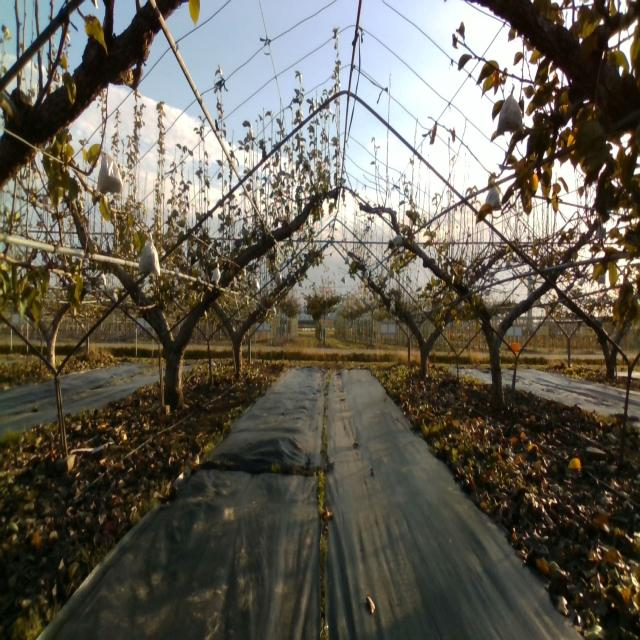pearbags: (497, 83, 525, 137), (96, 152, 124, 195), (137, 231, 161, 277), (485, 187, 501, 210)
